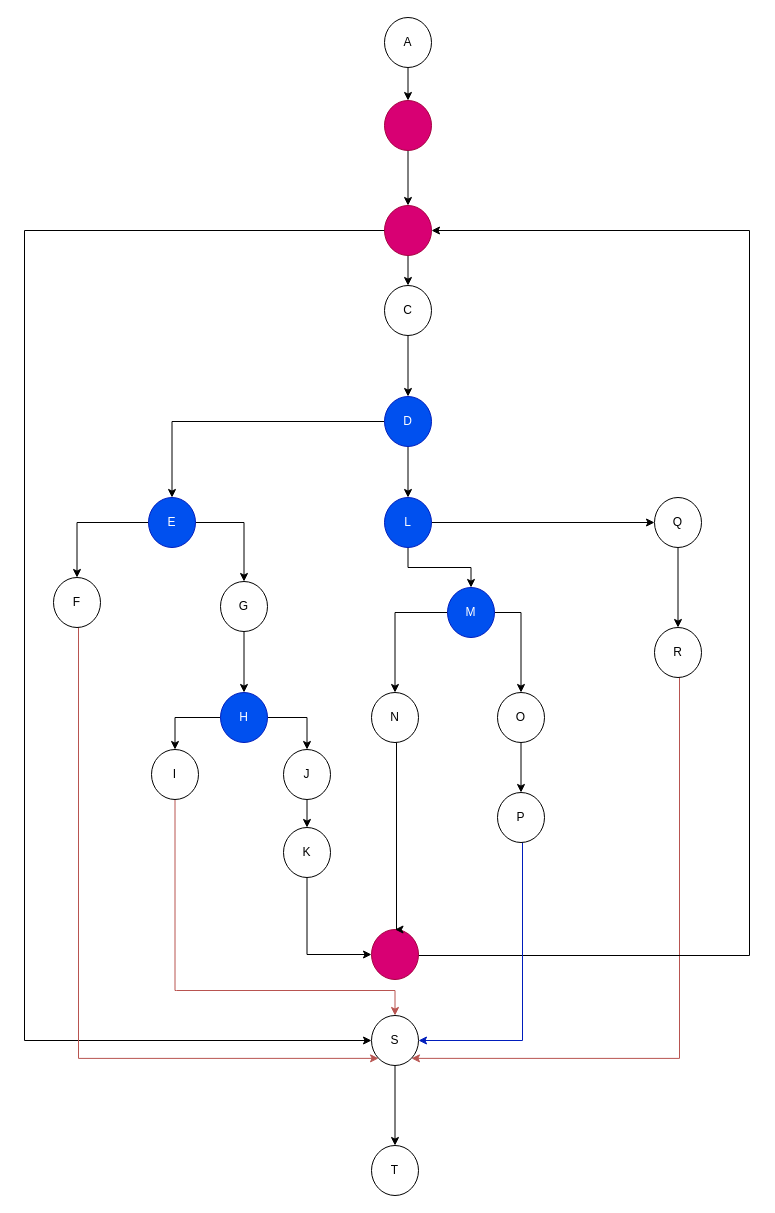
This 775x1213 diagram has some shape labels left out. Here are the shapes that lost their labels. From the top down, the centre of each, then its label:
the point at 408,125: B1
the point at 408,230: B2
the point at 394,954: B3
